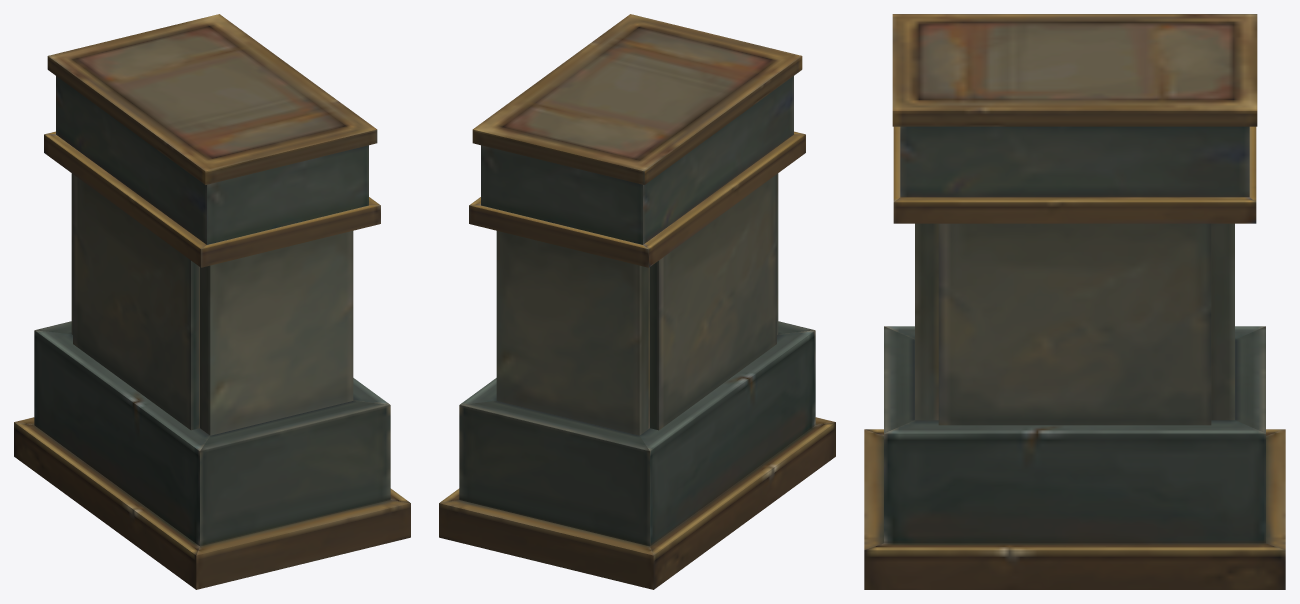
Rendered from jjc_zhuzidizuo01.FBX.
The picture shows the model from 3 angles, left to right: view 1: azimuth 30°, elevation 25°; view 2: azimuth 150°, elevation 25°; view 3: azimuth 270°, elevation 25°; orthographic projection. The views are drawn at different scales.
Parts seen in each view (by area): view 1: jjc_zhuzidizuo01_001; view 2: jjc_zhuzidizuo01_001; view 3: jjc_zhuzidizuo01_001.
Boxes of the visible parts, x1,y1,x2,y2 form: jjc_zhuzidizuo01_001: (14,14,410,589); jjc_zhuzidizuo01_001: (439,14,835,589); jjc_zhuzidizuo01_001: (864,14,1285,589).
Bounding box in the file's own units: 598 × 1076 × 879.
